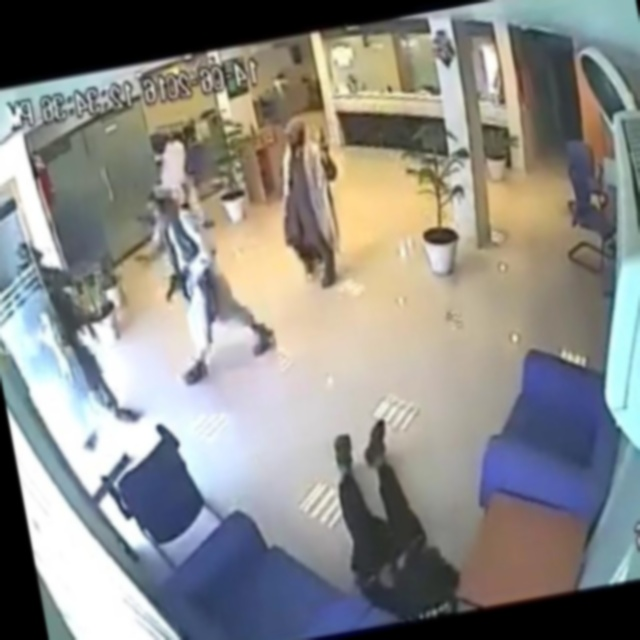gun: (158, 264, 188, 305), (317, 121, 331, 146)
